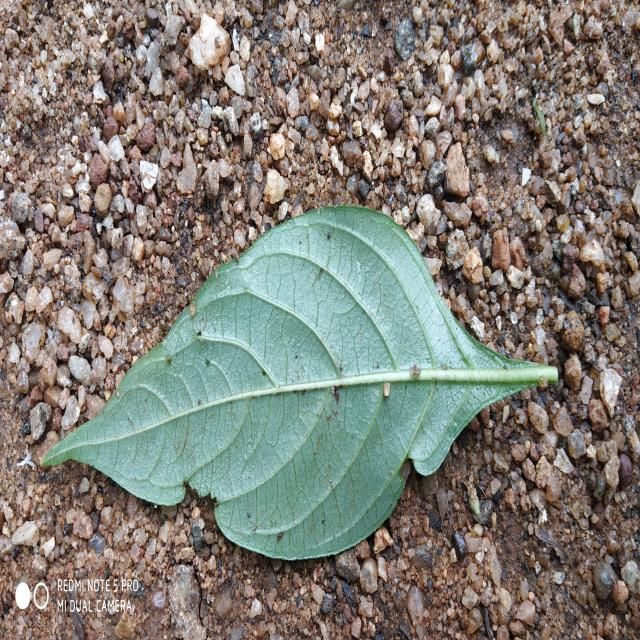ganike: (45, 207, 558, 558)
